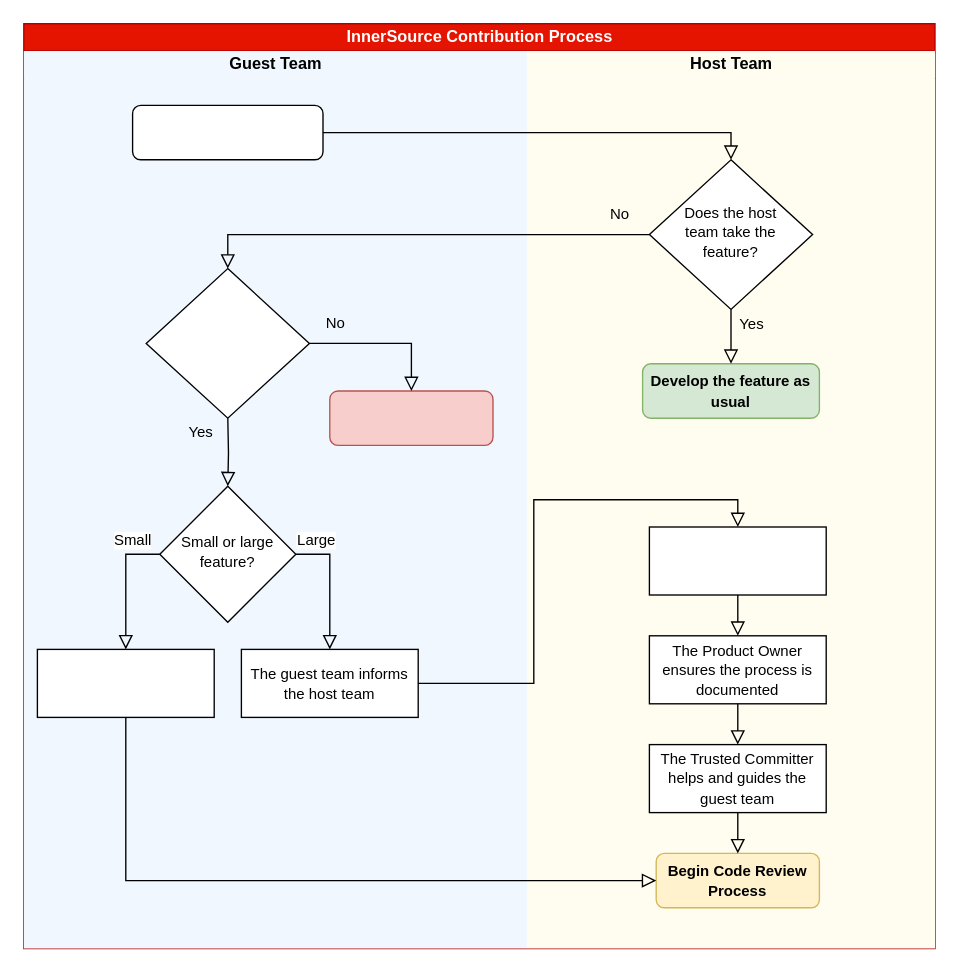
This 959x972 diagram has some shape labels left out. Each missing label, with the centre of its shape:
"Does the guest team want to implement it?" goes at (x=227, y=342).
"Feature is discarded" goes at (x=410, y=417).
"The guest team identifies a new feature" goes at (x=227, y=132).
"The guest team sends a Pull Request for review" goes at (x=125, y=682).
"The host team verifies feature feasibility" goes at (x=737, y=560).
